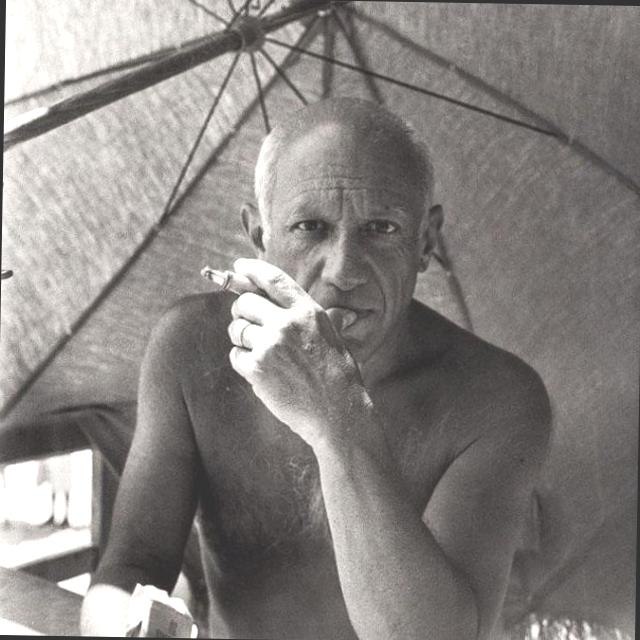smoke: (192, 256, 290, 314)
